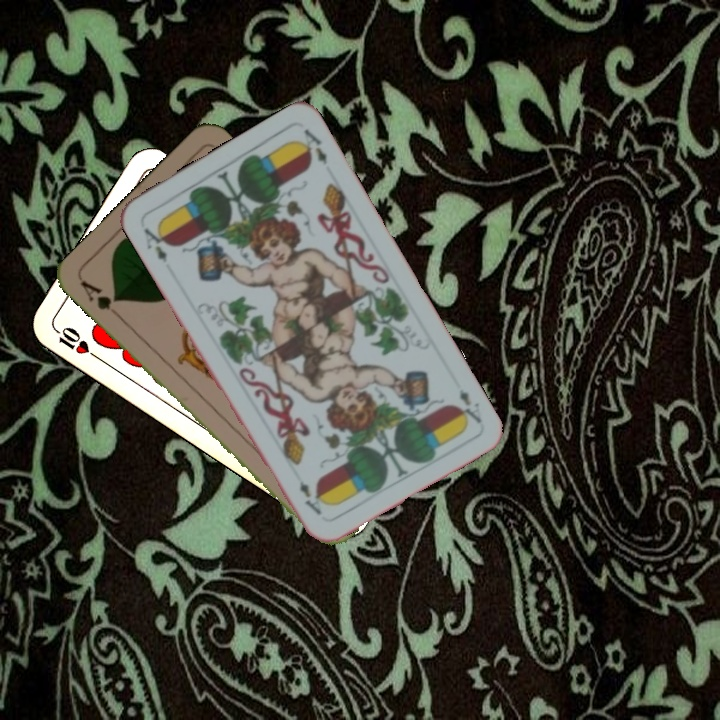EA: (139, 223, 173, 266), (451, 385, 485, 427)
GA: (76, 276, 124, 321)
H10: (48, 322, 101, 361)
